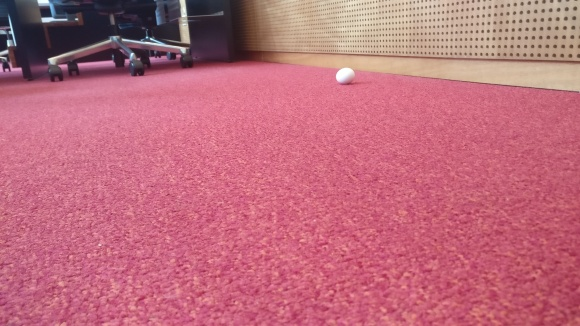egg: (335, 67, 355, 84)
